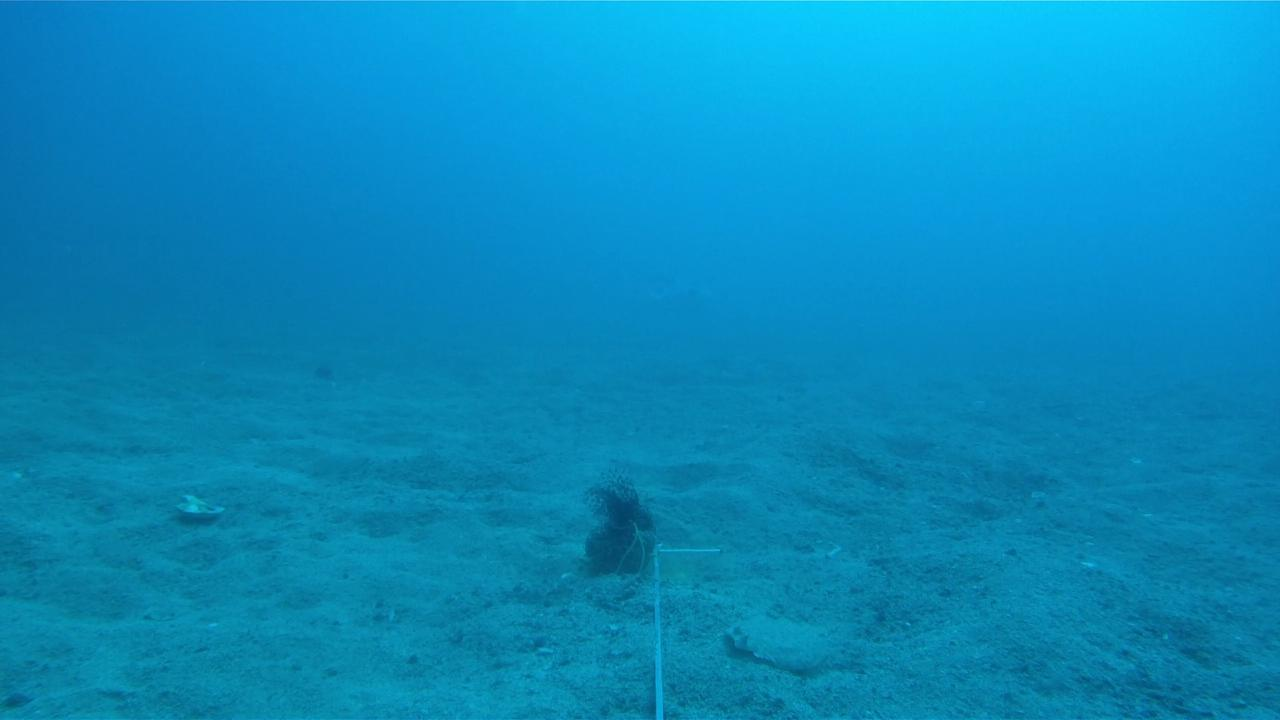bothus: (721, 612, 826, 674)
